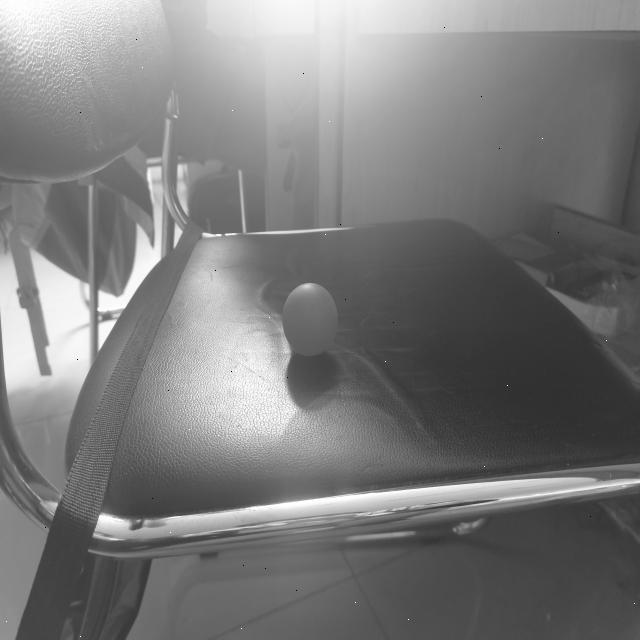ping-pong-ball: (284, 282, 338, 357)
